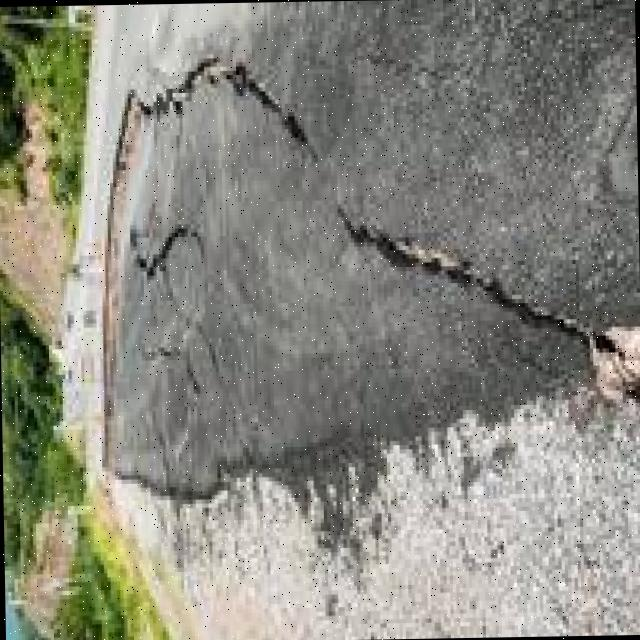road collapse: (45, 0, 640, 623)
